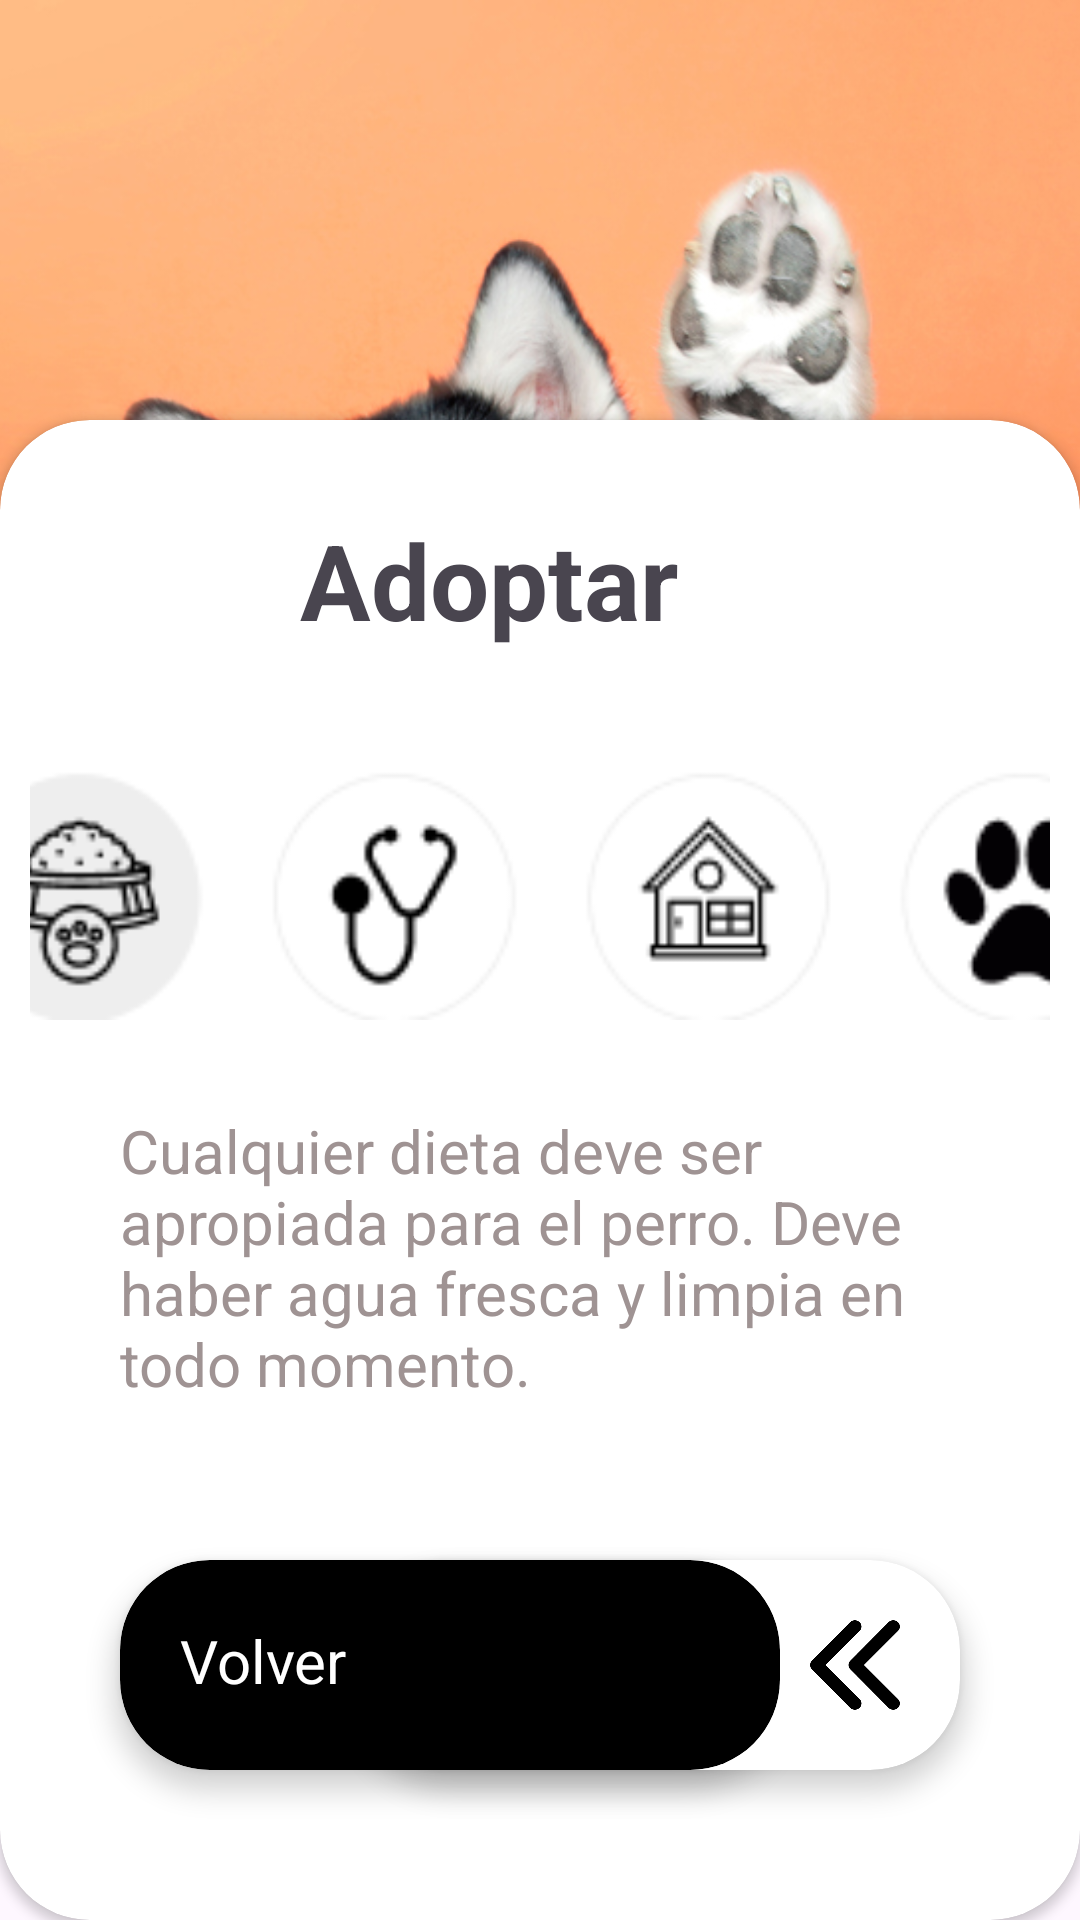

Where to tap for icons on this 1080px x 1920px app screen, as [x,y]:
back: [855,1665]
